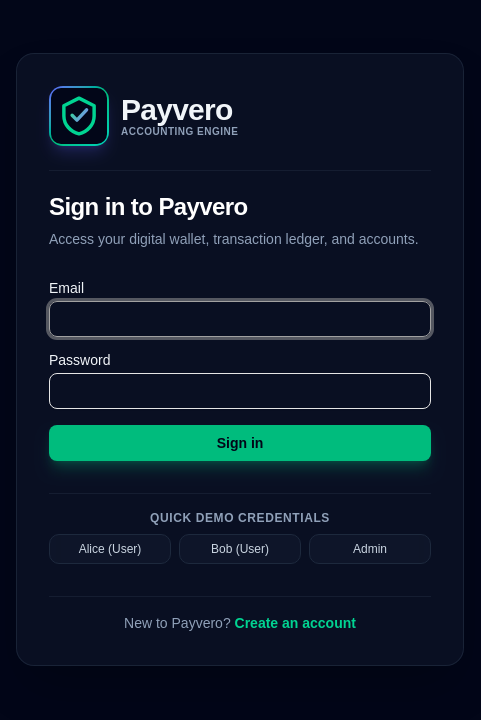
Test: errors that name no field › surfaces IDEMPOTENCY_KEY_REUSED as a form-level alert
In the field labelled "Email": coordinates (240, 318) 49,300 -> 431,336, type "alice@payvero.dev"
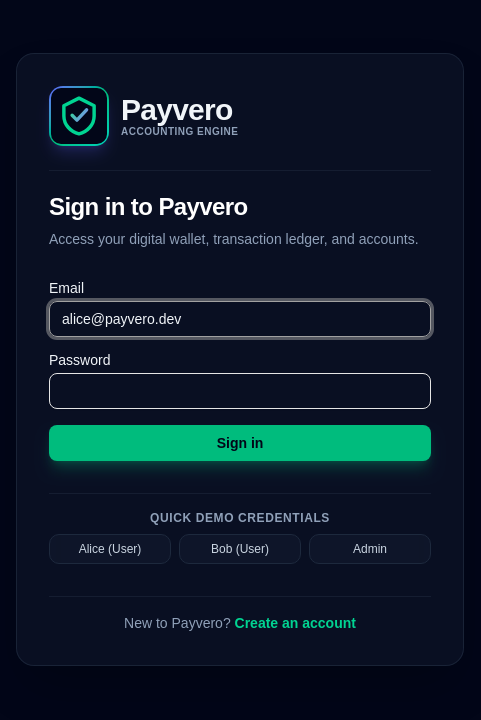
In the password field labelled "Password": coordinates (240, 390) 49,372 -> 431,408, type "demo-password-123"
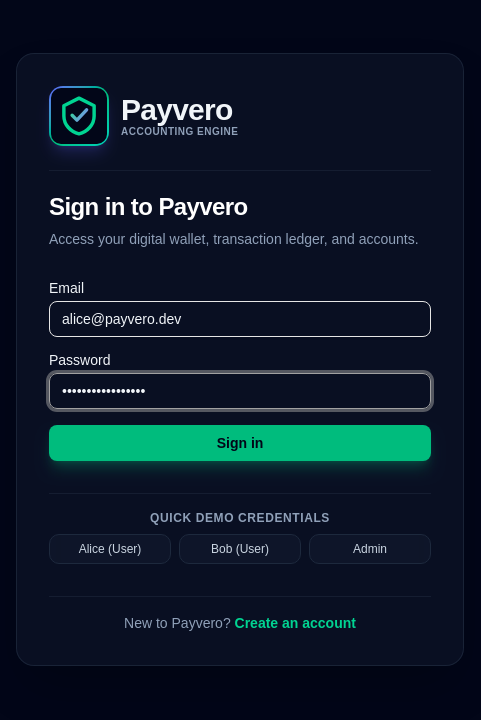
Click the button "Sign in": coordinates (240, 442) 49,424 -> 431,460
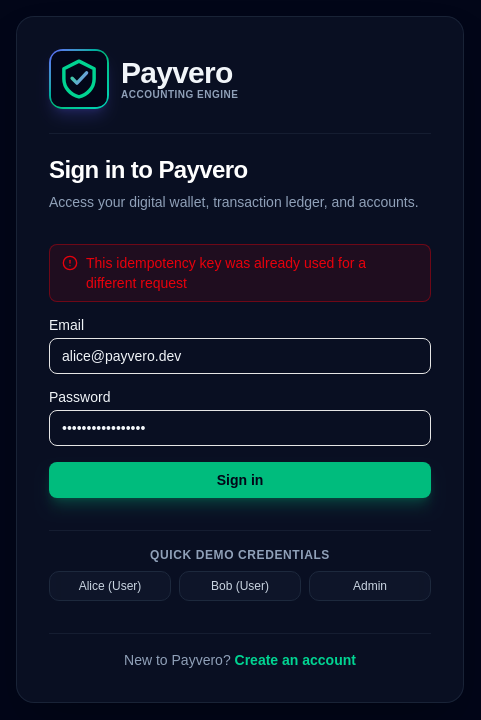
Check: the message reads "This idempotency key was already used for a different request", box 86,254 -> 366,290
